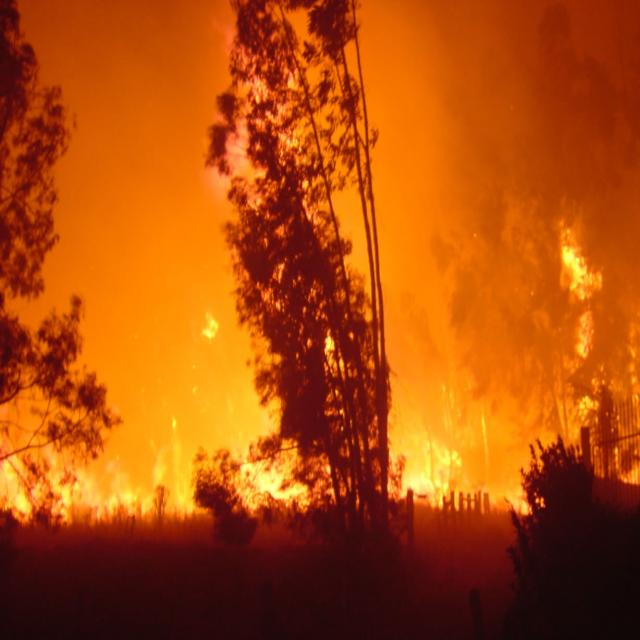Fire: (0, 239, 639, 517)
Smoke: (0, 0, 629, 322)
